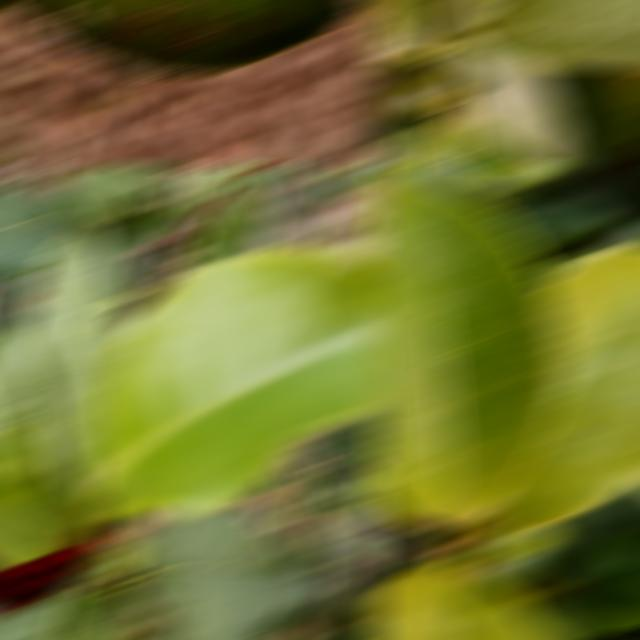Leaf: (84, 251, 384, 515), (370, 168, 567, 528), (471, 248, 640, 527), (14, 227, 130, 486), (0, 2, 366, 72), (130, 508, 317, 638), (450, 40, 640, 164), (370, 564, 546, 638), (462, 2, 640, 66), (186, 172, 270, 262), (0, 190, 84, 276), (0, 488, 87, 567), (0, 326, 41, 443), (51, 582, 136, 638), (318, 508, 384, 572), (67, 168, 131, 231), (370, 2, 442, 56), (93, 168, 166, 217), (0, 435, 50, 501), (318, 419, 384, 462), (338, 566, 384, 623), (0, 600, 62, 638), (459, 2, 526, 25), (503, 168, 575, 186), (200, 168, 255, 191), (151, 205, 197, 230)
